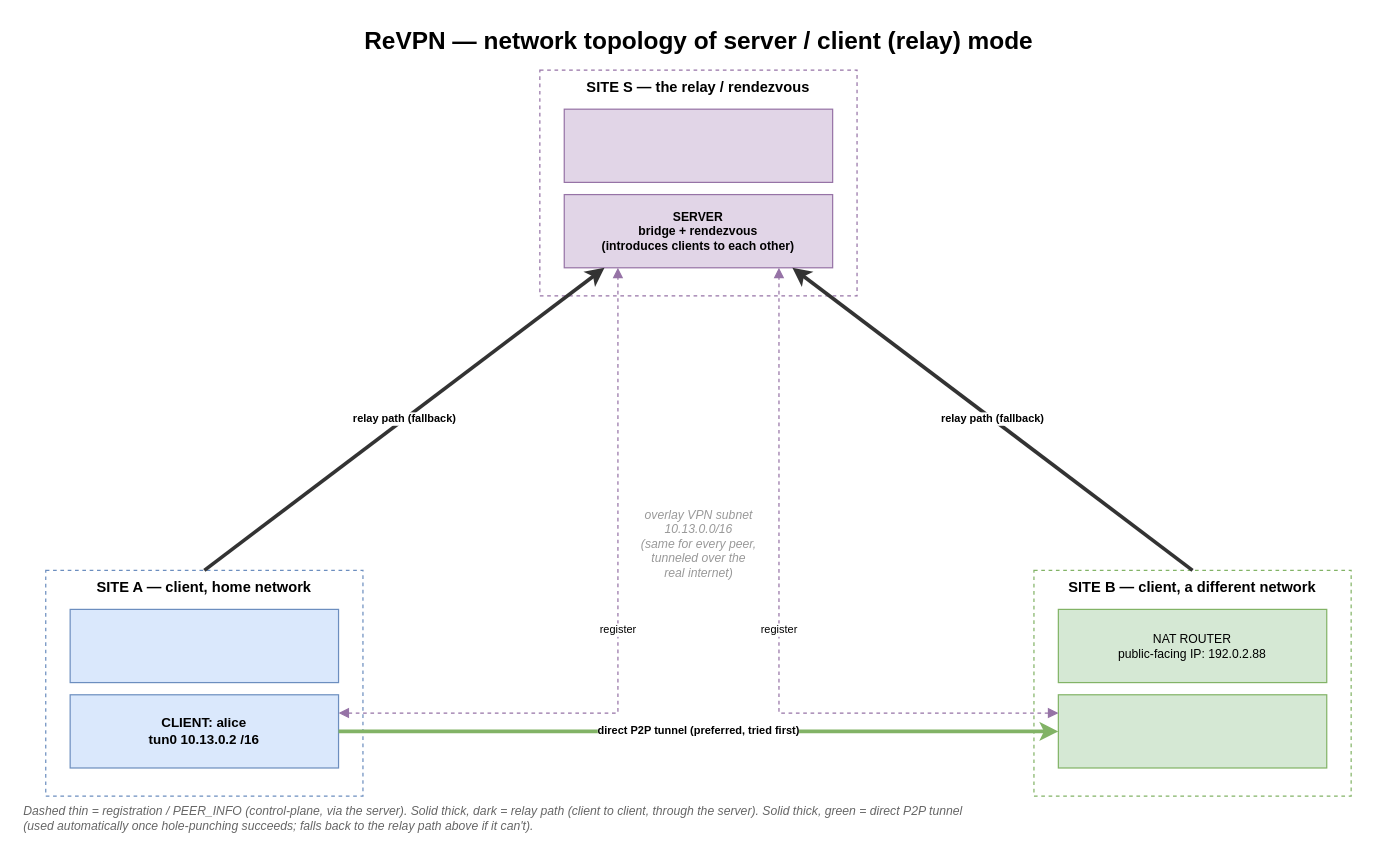
This 1373x865 diagram has some shape labels left out. Here are the shapes that lost their labels. From the top down, the centre of each, then its label:
pixel 698 145: PUBLIC / REACHABLE IP 198.51.100.5
pixel 204 645: NAT ROUTER public-facing IP: 203.0.113.42
pixel 1192 731: CLIENT: bob tun0 10.13.0.3 /16
